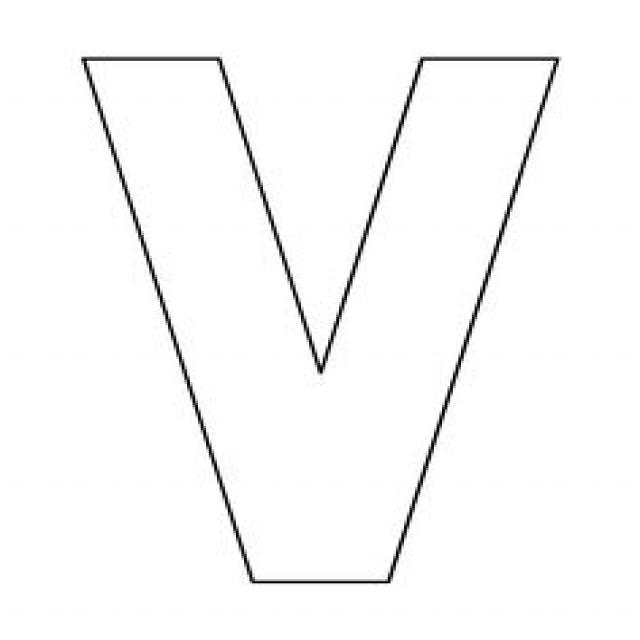V: (43, 31, 583, 608)
